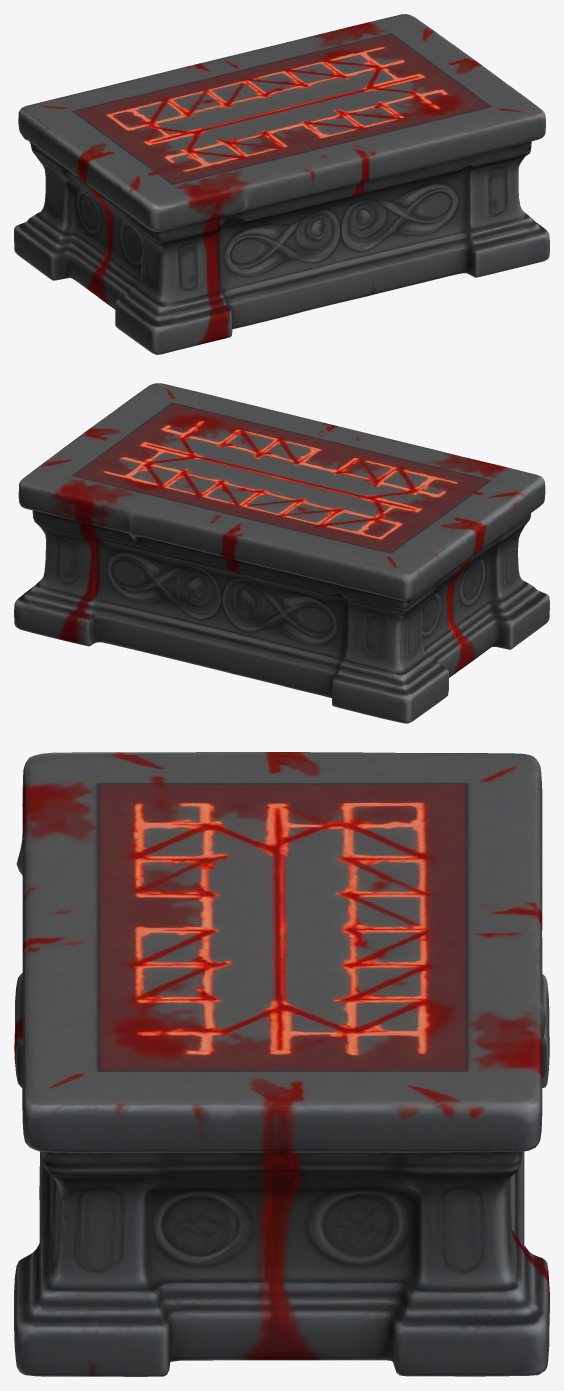
Rendered from altar_runic.glb.
3 views of the same model, one above another, from view 1: azimuth 30°, elevation 25°; view 2: azimuth 150°, elevation 25°; view 3: azimuth 270°, elevation 25° (orthographic). The views are drawn at different scales.
Size of the model in its own units: 2 by 0.7118 by 1.26.
Materials: 1 (1 with a texture image).
